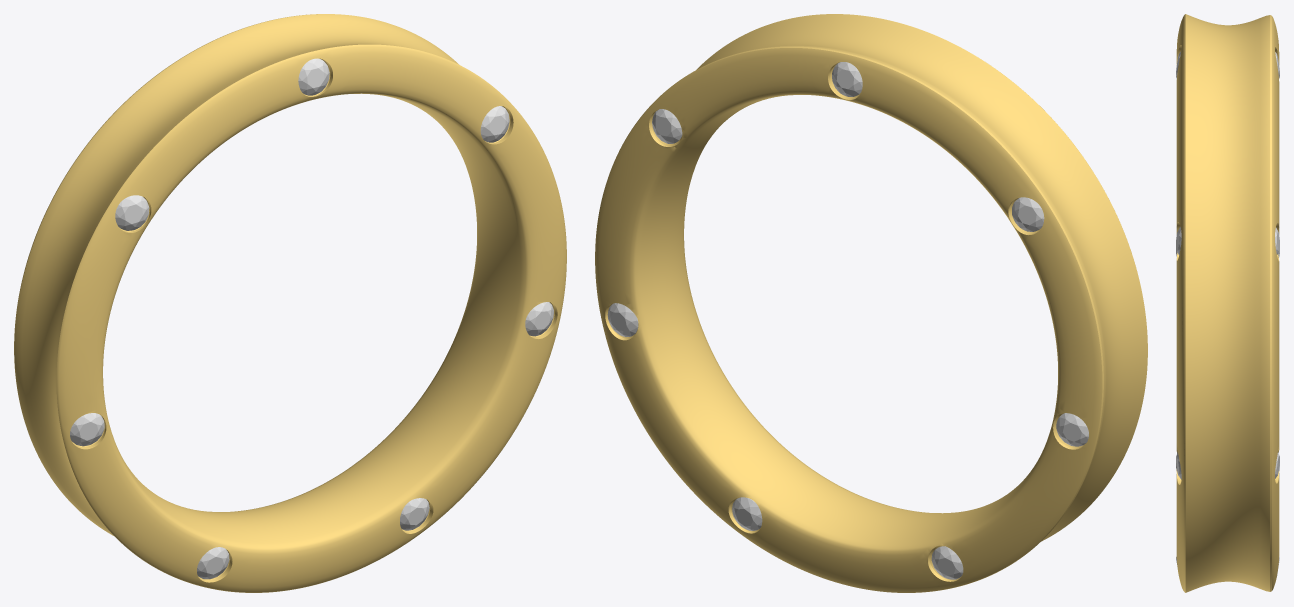
Rendered from BrynneV2sidedia_blender.glb.
3 views of the same model, side by side, from view 1: azimuth 30°, elevation 25°; view 2: azimuth 150°, elevation 25°; view 3: azimuth 270°, elevation 25° (orthographic).
Visible parts, largest first — view 1: v2 side YG for 3d model, v2 side dia for 3d model.012, v2 side dia for 3d model.013, v2 side dia for 3d model.011, v2 side dia for 3d model.007, v2 side dia for 3d model.010, v2 side dia for 3d model.008, v2 side dia for 3d model.009; view 2: v2 side YG for 3d model, v2 side dia for 3d model.005, v2 side dia for 3d model.006, v2 side dia for 3d model.004, v2 side dia for 3d model.003, v2 side dia for 3d model, v2 side dia for 3d model.002, v2 side dia for 3d model.001; view 3: v2 side YG for 3d model.
Part boxes in pixels (x1=…): v2 side YG for 3d model: x1=14, y1=14, x2=566, y2=592; v2 side dia for 3d model.012: x1=115, y1=195, x2=149, y2=230; v2 side dia for 3d model.013: x1=298, y1=58, x2=329, y2=95; v2 side dia for 3d model.011: x1=70, y1=413, x2=104, y2=446; v2 side dia for 3d model.007: x1=480, y1=106, x2=509, y2=142; v2 side dia for 3d model.010: x1=197, y1=547, x2=229, y2=579; v2 side dia for 3d model.008: x1=525, y1=302, x2=553, y2=336; v2 side dia for 3d model.009: x1=400, y1=498, x2=429, y2=530; v2 side YG for 3d model: x1=595, y1=14, x2=1147, y2=592; v2 side dia for 3d model.005: x1=1012, y1=197, x2=1044, y2=231; v2 side dia for 3d model.006: x1=832, y1=62, x2=862, y2=96; v2 side dia for 3d model.004: x1=1056, y1=413, x2=1088, y2=446; v2 side dia for 3d model.003: x1=931, y1=546, x2=963, y2=579; v2 side dia for 3d model: x1=652, y1=109, x2=682, y2=143; v2 side dia for 3d model.002: x1=732, y1=497, x2=762, y2=530; v2 side dia for 3d model.001: x1=607, y1=303, x2=638, y2=336; v2 side YG for 3d model: x1=1176, y1=14, x2=1279, y2=592.
Bounding box in the file's own units: 22.34 × 22.34 × 4.
